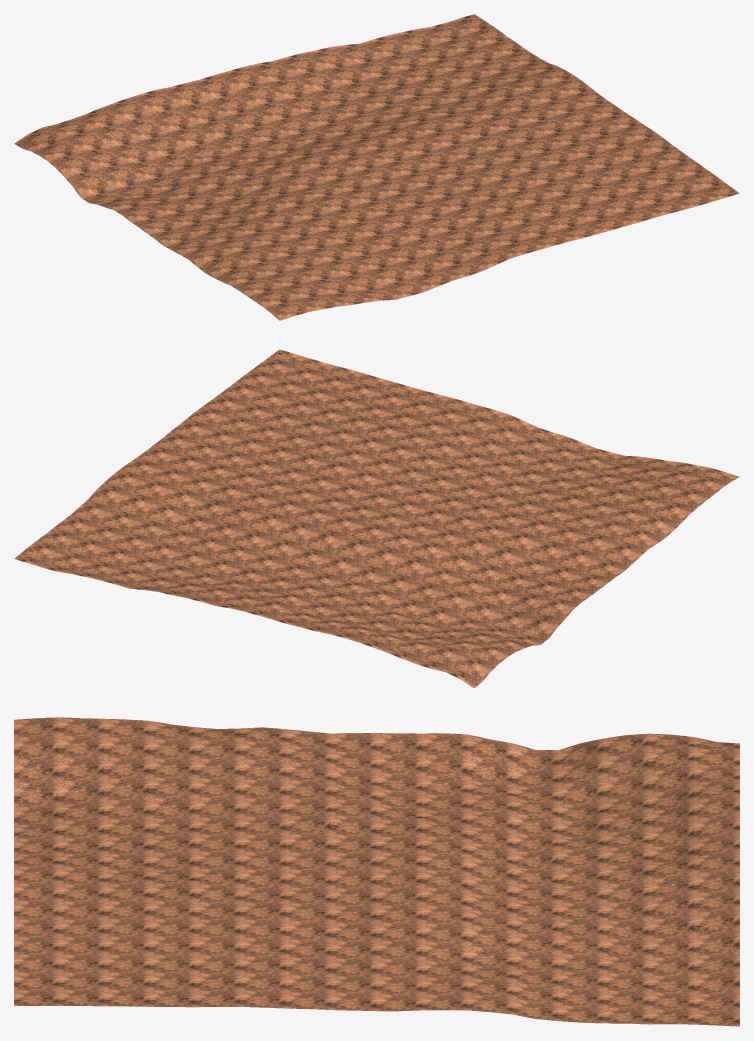
File: terrain_06_20.dae
The picture shows the model from 3 angles, top to bottom: view 1: azimuth 30°, elevation 25°; view 2: azimuth 150°, elevation 25°; view 3: azimuth 270°, elevation 25°; orthographic projection. The views are drawn at different scales.
Parts seen in each view (by area): view 1: terrain_06_20-node; view 2: terrain_06_20-node; view 3: terrain_06_20-node.
Boxes of the visible parts, box(x1,y1,x2,y2) form: terrain_06_20-node: box(14, 14, 739, 320); terrain_06_20-node: box(14, 349, 739, 688); terrain_06_20-node: box(14, 717, 739, 1026).
Size of the model in its own units: 128 by 128 by 10.01.
Materials: 1 (1 with a texture image).
